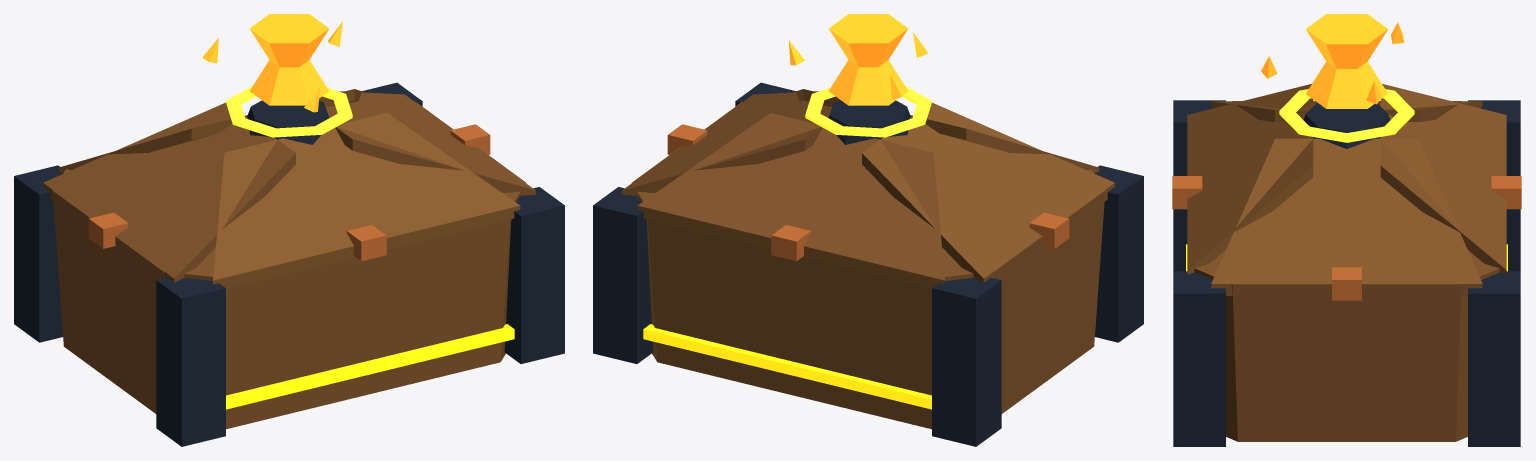
Rendered from chest_bronze.glb.
The picture shows the model from 3 angles, left to right: view 1: azimuth 30°, elevation 25°; view 2: azimuth 150°, elevation 25°; view 3: azimuth 270°, elevation 25°; orthographic projection. The views are drawn at different scales.
Visible parts, largest first — view 1: Chest_Bronze_Body, Chest_Bronze_Lid_South, Chest_Bronze_Lid_West, Chest_Bronze_CornerBracket_0, Chest_Bronze_CornerBracket_1, Chest_Bronze_CornerBracket_3, Chest_Bronze_Lid_East, Chest_Bronze_Energy_Crystal, Chest_Bronze_LED_-0.8, Chest_Bronze_HoloLock_Ring, Chest_Bronze_Lock_IrisHub, Chest_Bronze_Lid_North (+3 smaller); view 2: Chest_Bronze_Body, Chest_Bronze_Lid_North, Chest_Bronze_Lid_West, Chest_Bronze_CornerBracket_3, Chest_Bronze_CornerBracket_2, Chest_Bronze_CornerBracket_0, Chest_Bronze_Lid_East, Chest_Bronze_Energy_Crystal, Chest_Bronze_LED_0.8, Chest_Bronze_HoloLock_Ring, Chest_Bronze_Lock_IrisHub, Chest_Bronze_Lid_South (+3 smaller); view 3: Chest_Bronze_Body, Chest_Bronze_Lid_East, Chest_Bronze_Lid_South, Chest_Bronze_Lid_North, Chest_Bronze_CornerBracket_1, Chest_Bronze_CornerBracket_2, Chest_Bronze_Energy_Crystal, Chest_Bronze_CornerBracket_0, Chest_Bronze_CornerBracket_3, Chest_Bronze_HoloLock_Ring, Chest_Bronze_Lock_IrisHub, Chest_Bronze_Lid_West (+3 smaller).
Boxes of the visible parts, bbox=[...] form: Chest_Bronze_Body: bbox=[52, 101, 525, 429]; Chest_Bronze_Lid_South: bbox=[213, 113, 520, 288]; Chest_Bronze_Lid_West: bbox=[43, 102, 295, 282]; Chest_Bronze_CornerBracket_0: bbox=[156, 277, 225, 446]; Chest_Bronze_CornerBracket_1: bbox=[504, 187, 564, 363]; Chest_Bronze_CornerBracket_3: bbox=[14, 165, 63, 342]; Chest_Bronze_Lid_East: bbox=[322, 91, 535, 195]; Chest_Bronze_Energy_Crystal: bbox=[249, 14, 329, 105]; Chest_Bronze_LED_-0.8: bbox=[226, 324, 514, 409]; Chest_Bronze_HoloLock_Ring: bbox=[226, 86, 352, 137]; Chest_Bronze_Lock_IrisHub: bbox=[247, 100, 329, 144]; Chest_Bronze_Lid_North: bbox=[58, 89, 365, 172]; Chest_Bronze_Body: bbox=[632, 101, 1105, 429]; Chest_Bronze_Lid_North: bbox=[637, 113, 944, 288]; Chest_Bronze_Lid_West: bbox=[862, 102, 1114, 282]; Chest_Bronze_CornerBracket_3: bbox=[932, 277, 1001, 446]; Chest_Bronze_CornerBracket_2: bbox=[593, 187, 653, 363]; Chest_Bronze_CornerBracket_0: bbox=[1094, 165, 1143, 342]; Chest_Bronze_Lid_East: bbox=[622, 91, 835, 195]; Chest_Bronze_Energy_Crystal: bbox=[828, 14, 908, 105]; Chest_Bronze_LED_0.8: bbox=[643, 324, 931, 409]; Chest_Bronze_HoloLock_Ring: bbox=[805, 86, 931, 137]; Chest_Bronze_Lock_IrisHub: bbox=[828, 100, 910, 144]; Chest_Bronze_Lid_South: bbox=[792, 89, 1099, 172]; Chest_Bronze_Body: bbox=[1194, 101, 1499, 441]; Chest_Bronze_Lid_East: bbox=[1211, 138, 1482, 295]; Chest_Bronze_Lid_South: bbox=[1187, 84, 1313, 274]; Chest_Bronze_Lid_North: bbox=[1380, 84, 1506, 274]; Chest_Bronze_CornerBracket_1: bbox=[1173, 271, 1225, 446]; Chest_Bronze_CornerBracket_2: bbox=[1468, 271, 1520, 446]; Chest_Bronze_Energy_Crystal: bbox=[1306, 14, 1387, 108]; Chest_Bronze_CornerBracket_0: bbox=[1173, 100, 1225, 271]; Chest_Bronze_CornerBracket_3: bbox=[1468, 100, 1520, 271]; Chest_Bronze_HoloLock_Ring: bbox=[1279, 89, 1414, 142]; Chest_Bronze_Lock_IrisHub: bbox=[1303, 102, 1390, 148]; Chest_Bronze_Lid_West: bbox=[1211, 101, 1482, 121].
Size of the model in its own units: 2.46 by 1.91 by 1.86.
